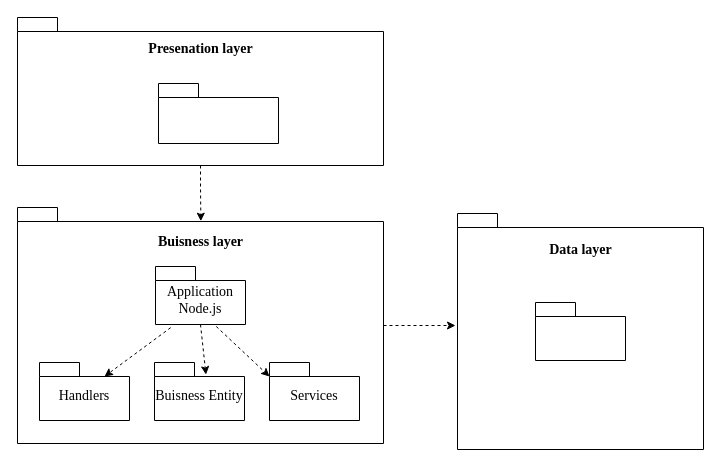
This 721x467 diagram has some shape labels left out. The shapes that lost their labels are listed below. From the top down, each one's centre as x and y in pixels, then its label:
At point (218, 113): "User interface React.js".
At point (580, 331): "Data access PostgreSQL".
